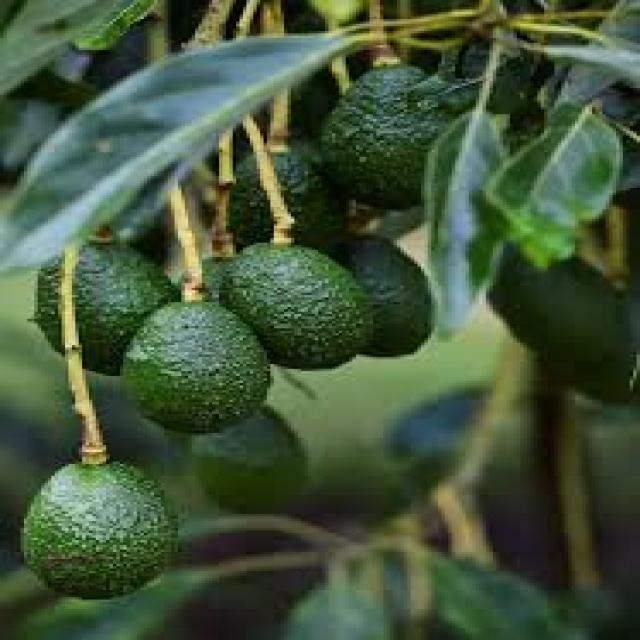avocado: (321, 38, 508, 221), (35, 227, 218, 395), (33, 460, 202, 618), (108, 288, 286, 436), (213, 235, 359, 371), (213, 129, 346, 240)
